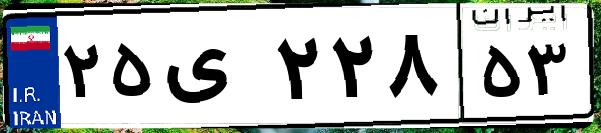2: (270, 28, 330, 110), (330, 28, 385, 110), (57, 26, 110, 100)
3: (525, 38, 570, 115)
5: (475, 38, 525, 113), (110, 28, 158, 98)
8: (385, 28, 445, 110)
ی: (158, 20, 270, 120)
